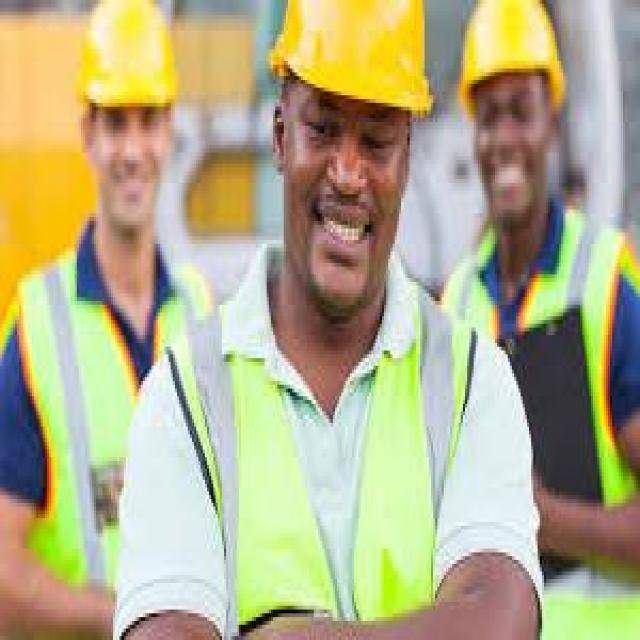Reflective-Jacket: (182, 297, 484, 629), (2, 266, 218, 624)
Safety-Helmet: (267, 4, 435, 118), (73, 4, 184, 118), (461, 3, 567, 106)
